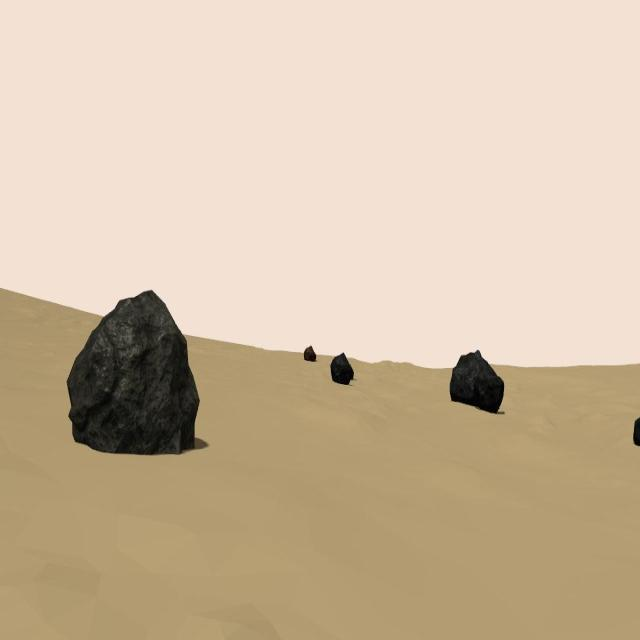rock: (66, 288, 200, 456), (450, 348, 504, 414), (330, 350, 350, 384), (303, 344, 317, 363), (633, 414, 640, 448), (350, 361, 354, 379)
